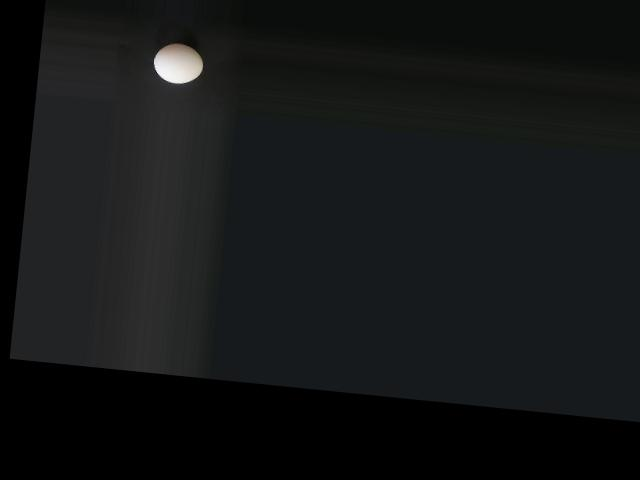egg: (153, 41, 205, 85)
